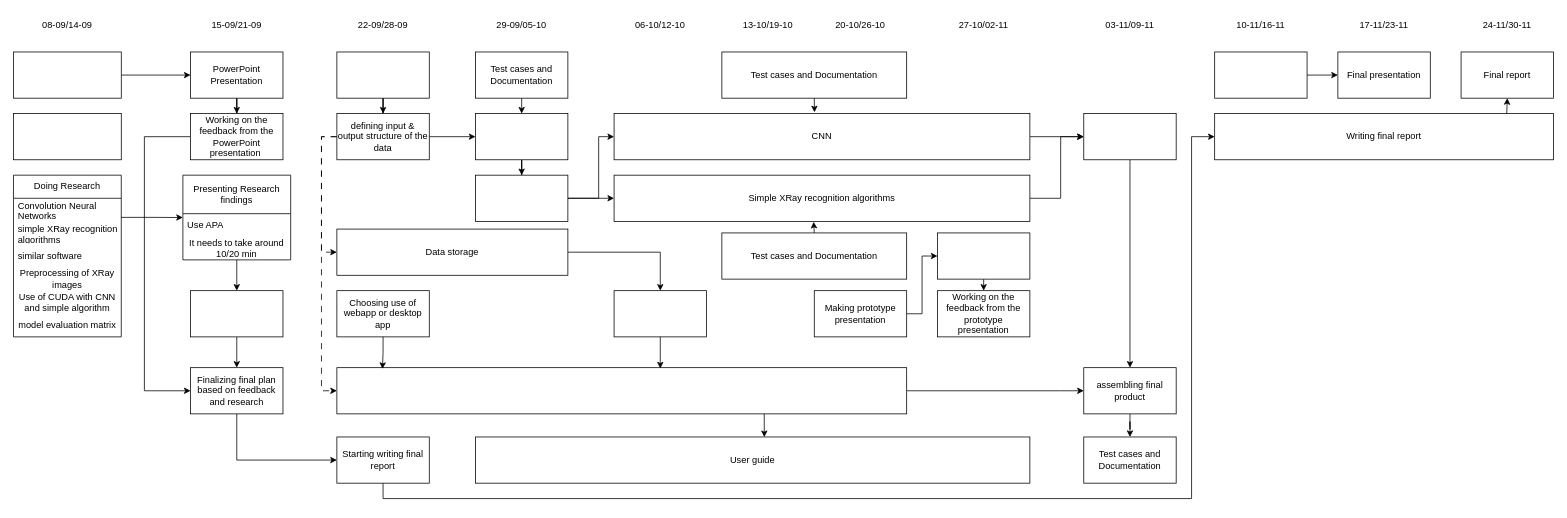
Some shapes in this 1567 by 518 pixel diagram are drawn without their labels. The centre of each missing label's shape, as x and y in pixels:
"attaching storage to front end" belongs at (x=659, y=313).
"Data analyses" belongs at (x=382, y=74).
"defining model evaluation matrixes" belongs at (x=521, y=197).
"Front end" belongs at (x=621, y=390).
"Making group contract" belongs at (x=67, y=136).
"Making Powerpoint" belongs at (x=67, y=74).
"Making PowerPoint for final presentation" belongs at (x=1260, y=74).
"Optimizing Workflow" belongs at (x=1129, y=136).
"Preprocessing" belongs at (x=521, y=136).
"Prototype presentation" belongs at (x=983, y=255).
"Select the research findings for use" belongs at (x=236, y=313).
